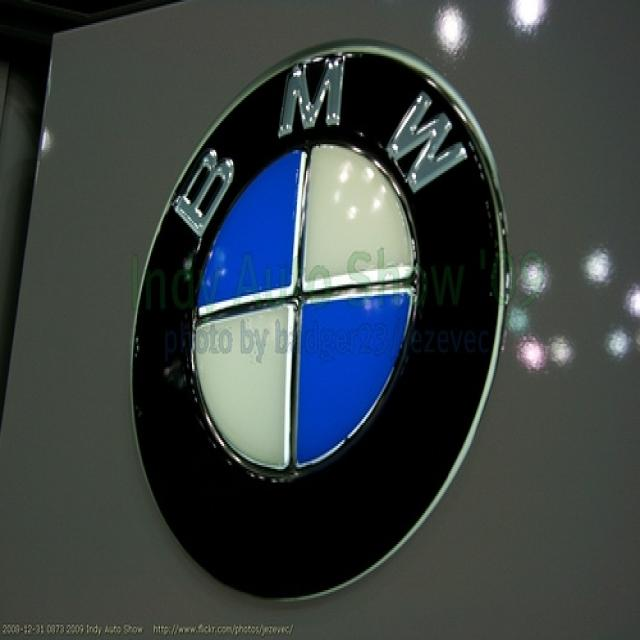bmw: (126, 32, 512, 614)
